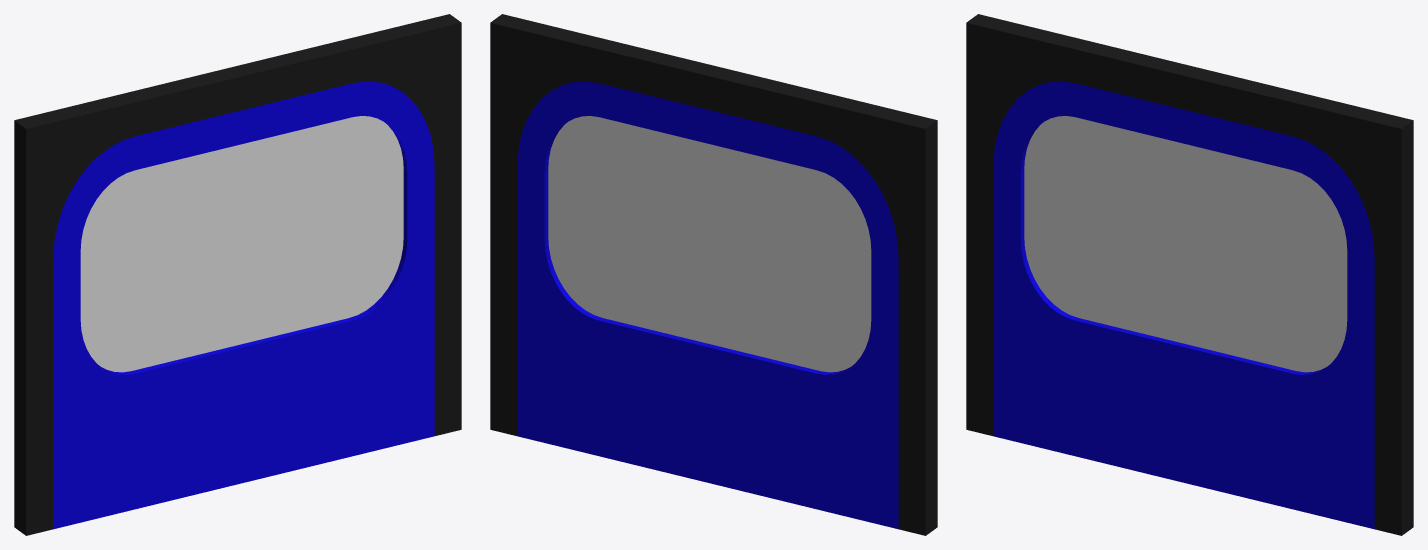
File: PuertaLabV1.fbx
3 renders of one model, left to right at view 1: azimuth 30°, elevation 25°; view 2: azimuth 150°, elevation 25°; view 3: azimuth 330°, elevation 25°, orthographic.
Visible parts, largest first — view 1: PuertaPart2, PuertaVidrio, PuertaPart1; view 2: PuertaPart2, PuertaVidrio, PuertaPart1; view 3: PuertaPart2, PuertaVidrio, PuertaPart1.
Part boxes in pixels (x1,y1,x2,y2): PuertaPart2: [53, 81, 434, 529]; PuertaVidrio: [80, 116, 403, 372]; PuertaPart1: [14, 14, 461, 535]; PuertaPart2: [517, 81, 898, 529]; PuertaVidrio: [548, 116, 871, 372]; PuertaPart1: [490, 14, 937, 535]; PuertaPart2: [993, 81, 1374, 529]; PuertaVidrio: [1024, 116, 1347, 372]; PuertaPart1: [966, 14, 1413, 535].
Size of the model in its own units: 700 by 625 by 33.33.
